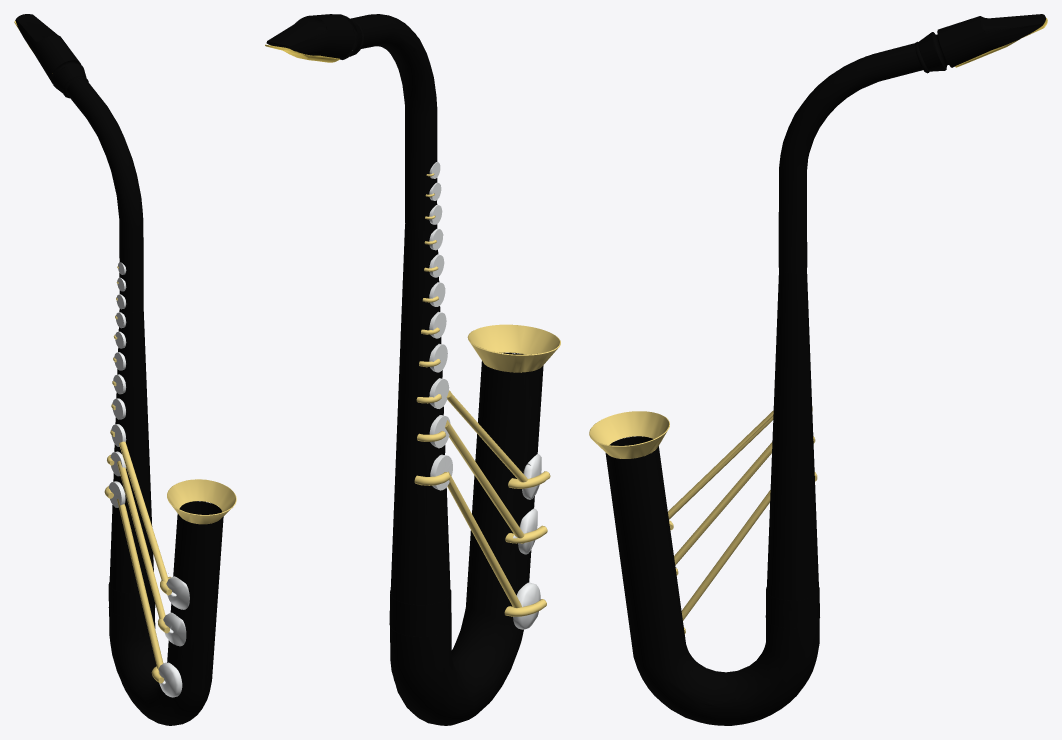
Rendered from sax.glb.
3 renders of one model, left to right at view 1: azimuth 30°, elevation 25°; view 2: azimuth 150°, elevation 25°; view 3: azimuth 270°, elevation 25°, orthographic. The views are drawn at different scales.
Visible parts, largest first — view 1: Object_2; view 2: Object_2; view 3: Object_2.
Boxes of the visible parts, box(x1,y1,x2,y2) form: Object_2: box(14, 14, 236, 725); Object_2: box(265, 14, 560, 725); Object_2: box(589, 14, 1047, 725).
Bounding box in the file's own units: 0.111 × 1 × 0.5892.
